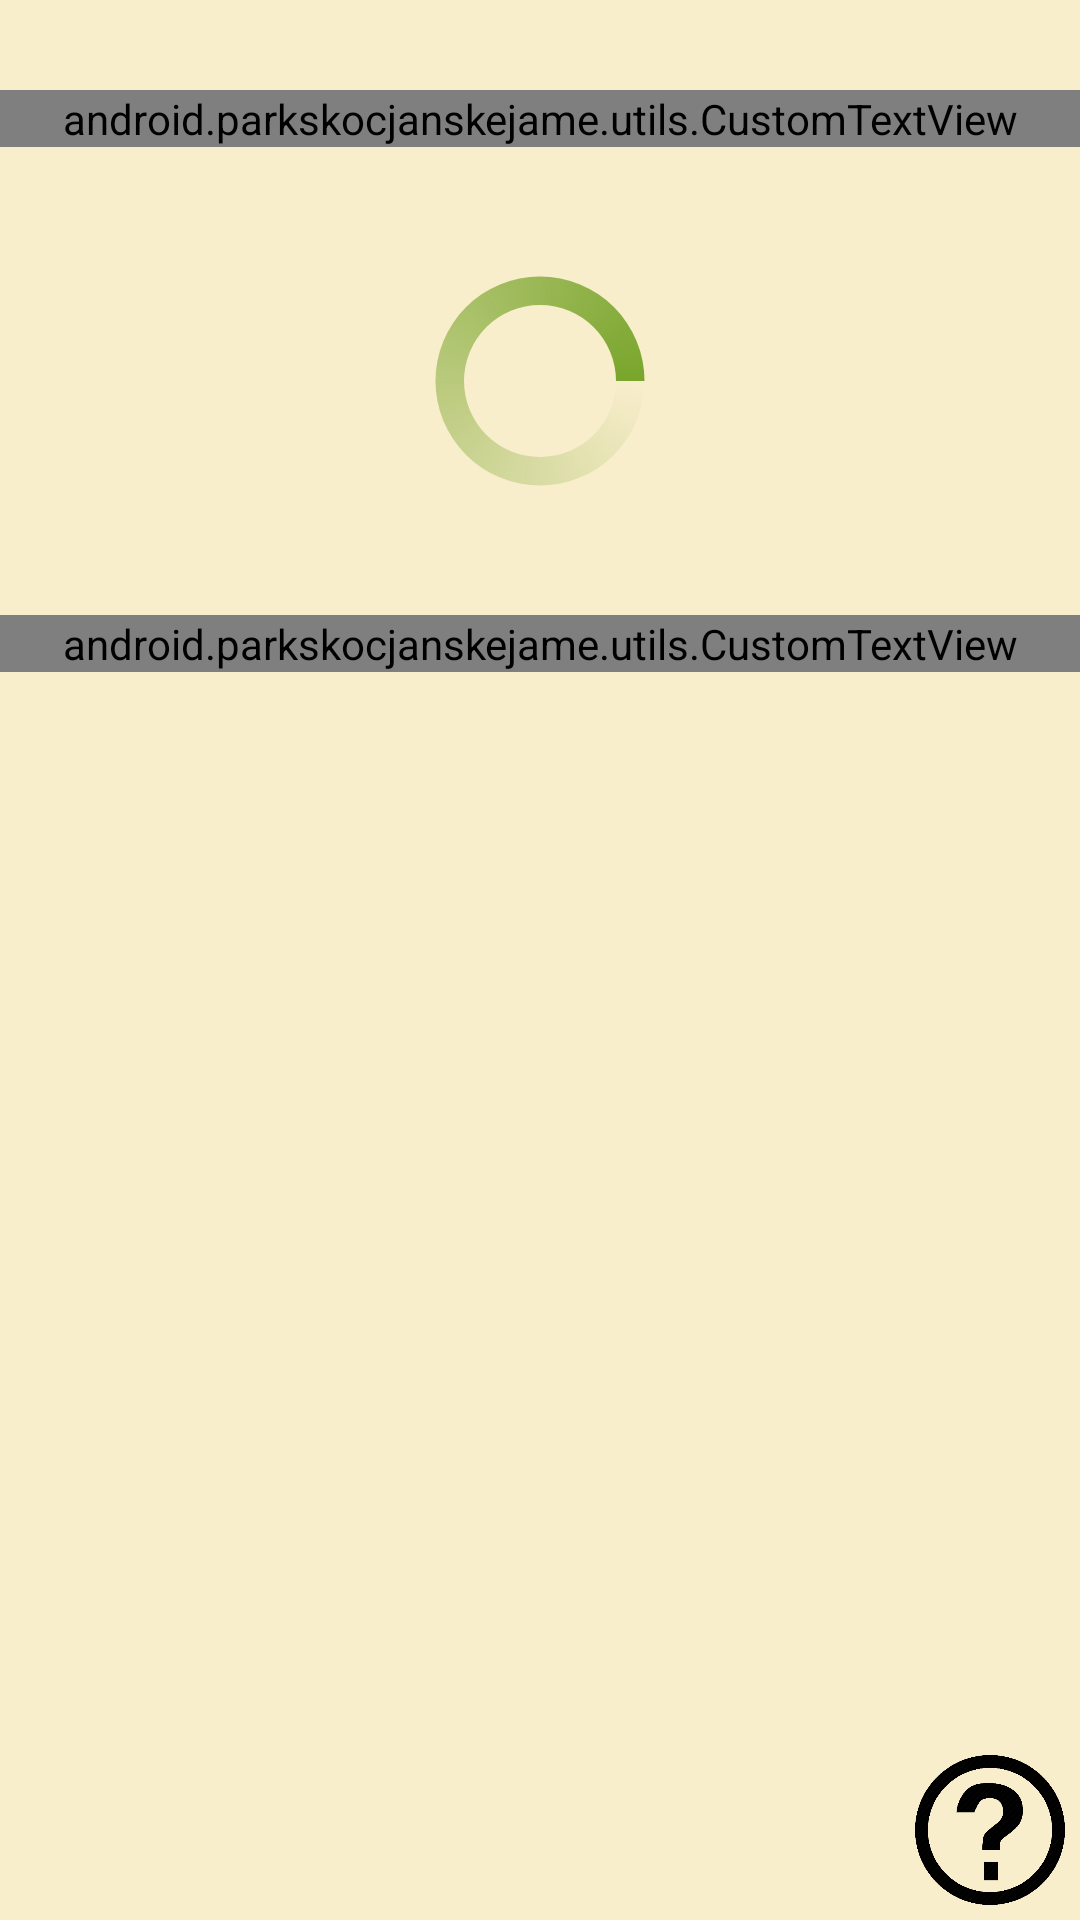

Icons on this 1080×1920 Android screen, each with its box as (x1, y1, x2, y2):
help: (915, 1755, 1065, 1905)
